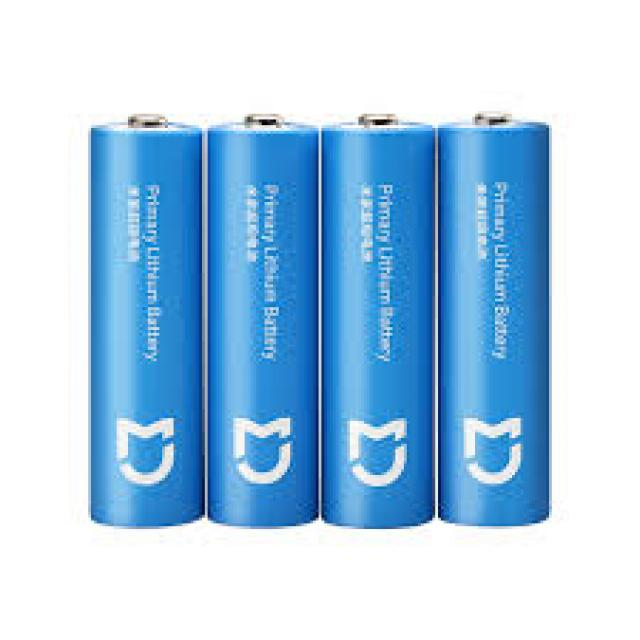hazard: (85, 108, 556, 530)
